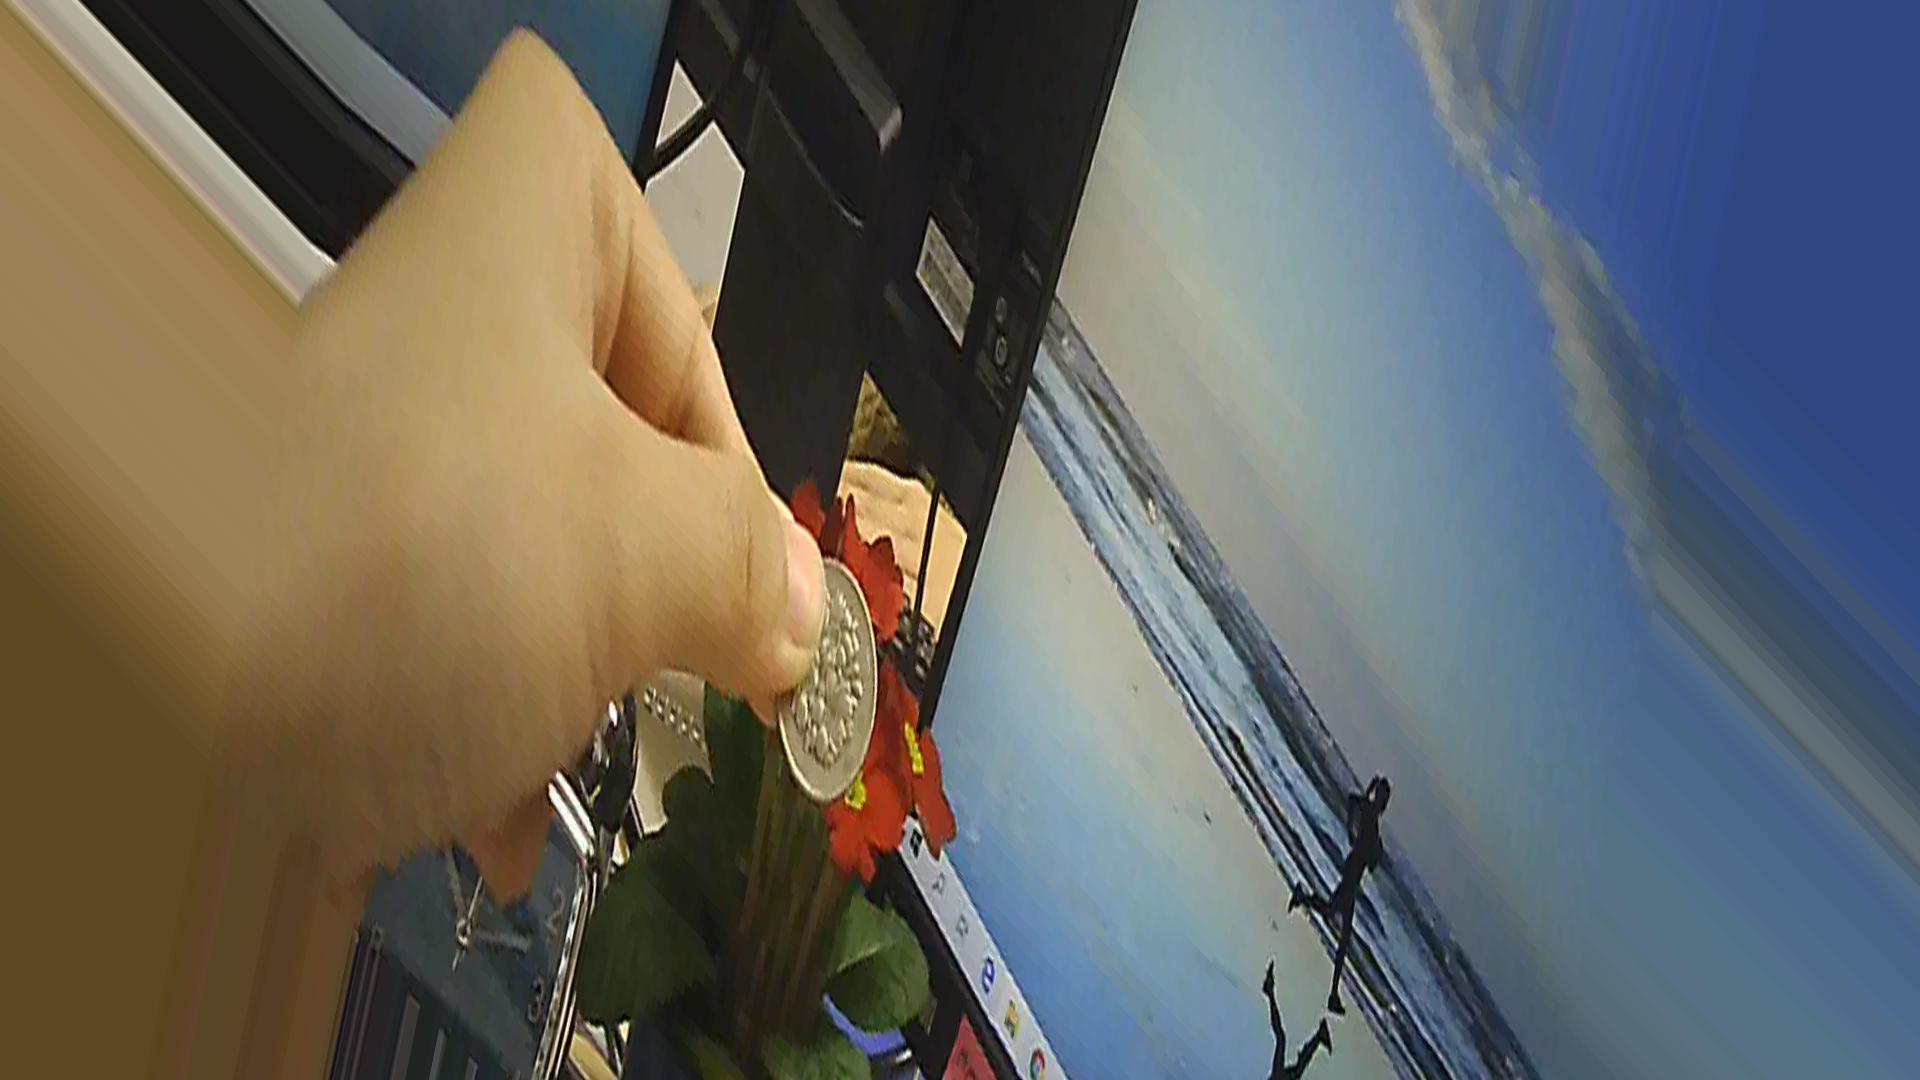100 Yen: (761, 545, 885, 818)
